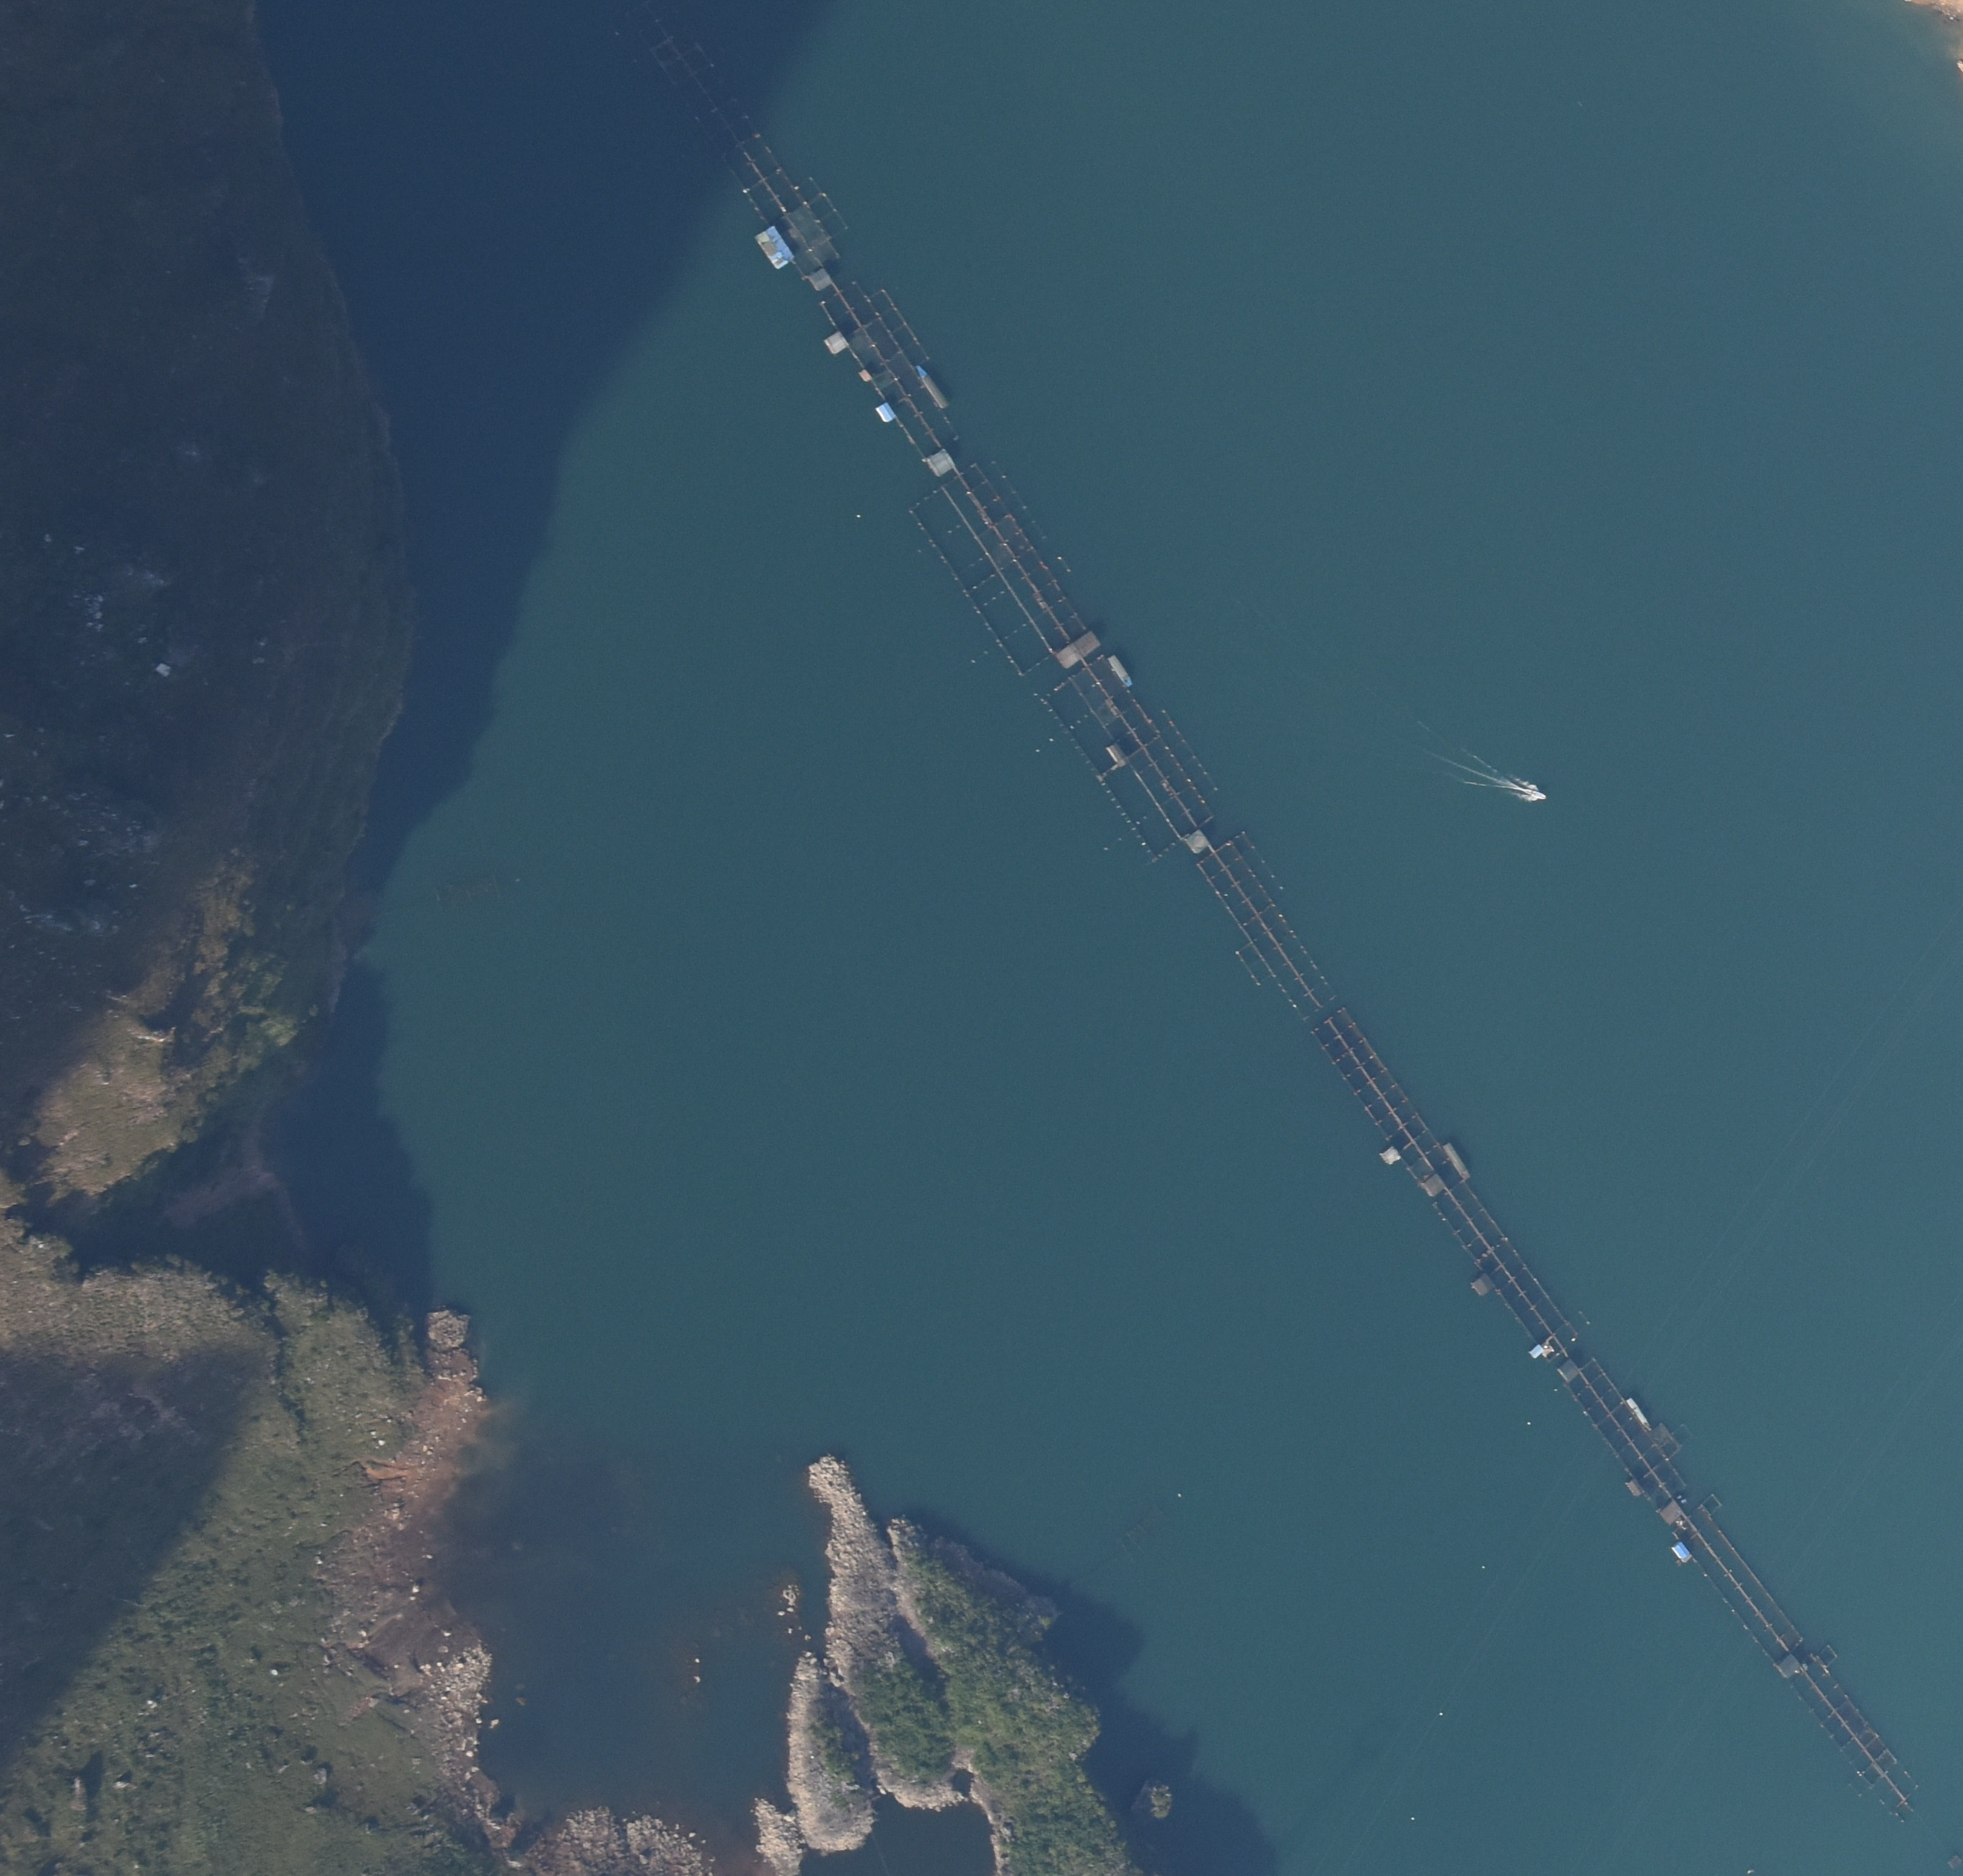cultivation-mesh-cage: (908, 459, 1084, 675), (1039, 651, 1216, 860), (1436, 1178, 1580, 1366), (1196, 830, 1330, 1024), (821, 284, 964, 454), (1791, 1643, 1926, 1820), (1309, 1004, 1446, 1179), (716, 106, 851, 278), (1678, 1494, 1806, 1666), (1565, 1360, 1692, 1519)
prefabricated-house: (752, 224, 796, 270), (1055, 631, 1099, 671), (1775, 1649, 1804, 1681), (1183, 827, 1211, 855), (928, 449, 956, 477), (1103, 741, 1128, 770), (1660, 1499, 1683, 1528), (1472, 1270, 1495, 1298), (823, 330, 848, 354), (1671, 1538, 1692, 1564), (1623, 1474, 1643, 1498), (1379, 1143, 1398, 1166), (1427, 1175, 1444, 1199), (876, 400, 895, 422), (1529, 1342, 1547, 1359), (858, 368, 871, 382)
ship: (916, 361, 952, 413), (1444, 1139, 1472, 1183), (1628, 1395, 1656, 1432), (1514, 777, 1551, 805), (1105, 653, 1133, 690)
